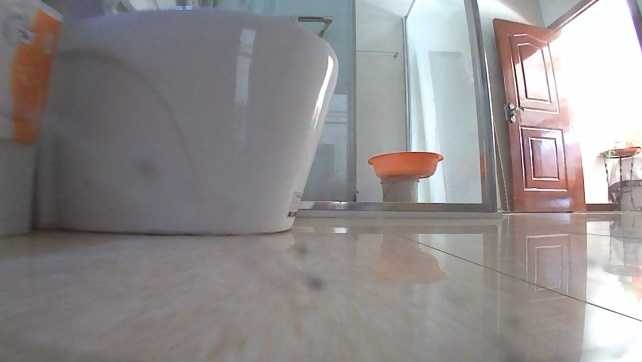door_anno: (493, 15, 586, 215)
toilet: (30, 0, 345, 235)
